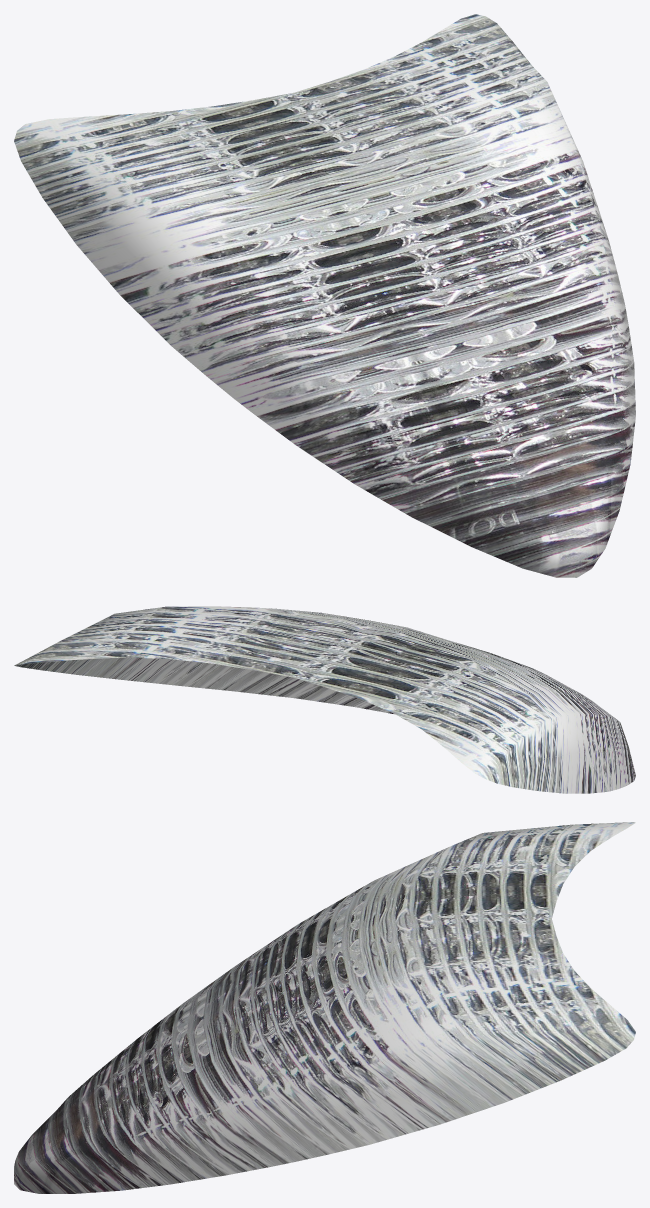
Rendered from BrakeLight_CLEAR.glb.
The picture shows the model from 3 angles, top to bottom: view 1: azimuth 30°, elevation 25°; view 2: azimuth 150°, elevation 25°; view 3: azimuth 270°, elevation 25°; orthographic projection. The views are drawn at different scales.
Visible parts, largest first — view 1: BrakeLight_CLEAR; view 2: BrakeLight_CLEAR; view 3: BrakeLight_CLEAR.
Boxes of the visible parts, x1=… form: BrakeLight_CLEAR: x1=14, y1=14, x2=635, y2=577; BrakeLight_CLEAR: x1=14, y1=606, x2=635, y2=793; BrakeLight_CLEAR: x1=14, y1=822, x2=635, y2=1193.
Size of the model in its own units: 0.1748 by 0.0943 by 0.2004.
Materials: 1 (1 with a texture image).
